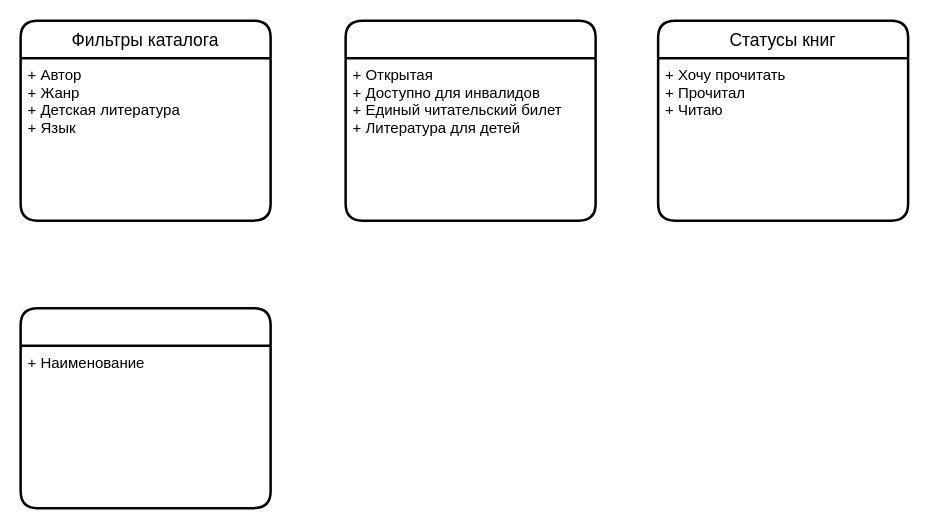
Some shapes in this 929 by 529 pixel diagram are drawn without their labels. Here are the shapes that lost their labels. From the top down, the box of each, then its label:
(344, 19, 596, 221): Фильтры карты
(19, 306, 271, 509): Жанр
